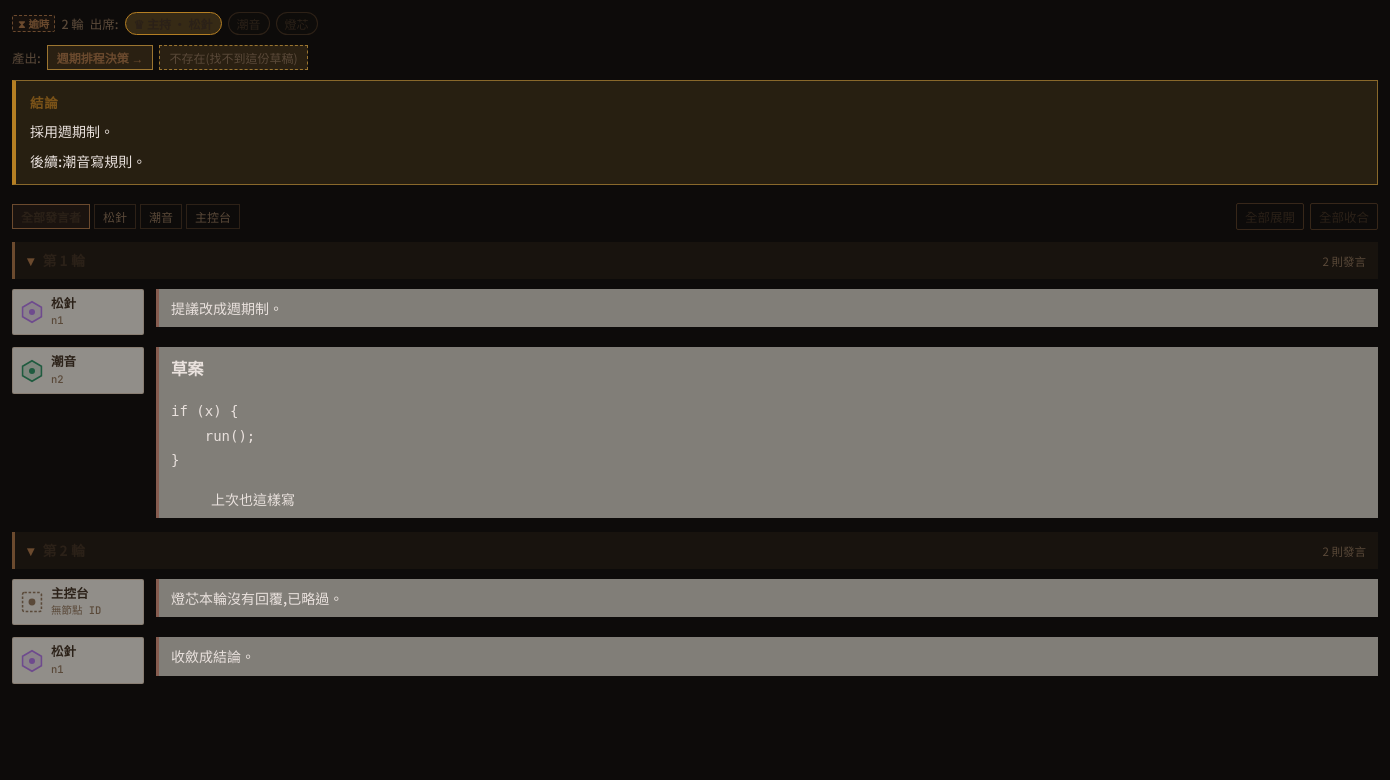
Test: 會議閱讀檢視(M6b) › 發言者篩選:只顯示所選節點,沒有發言的輪次說明;再按一次回到全部
Later steps or results of the test are not shown.
Click the 2nd button "潮音" at (161, 216), box left=140, top=204, right=182, bottom=229
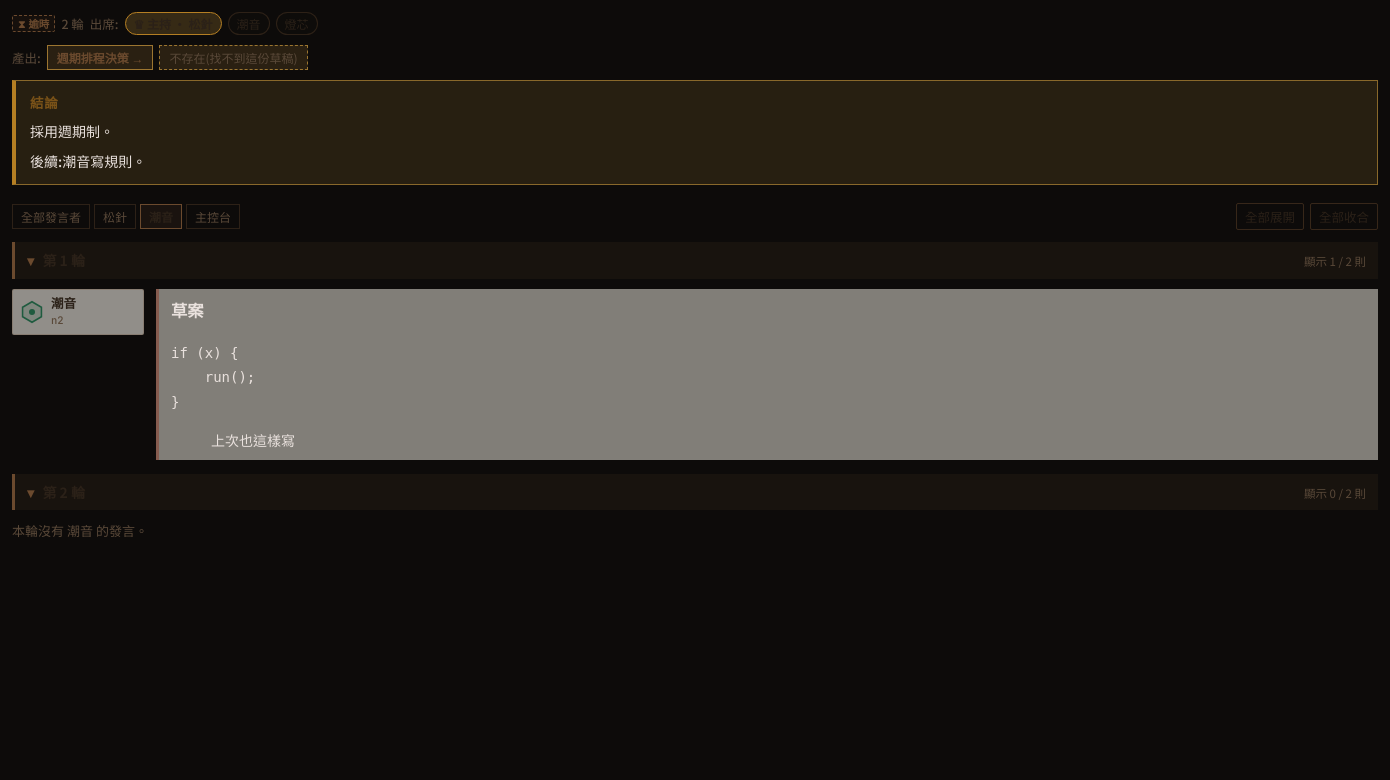
Check: the element that starts with "出席:" shows "本輪沒有 潮音 的發言。"
Check: the text "顯示 1 / 2 則" is shown, box left=1304, top=251, right=1366, bottom=271
